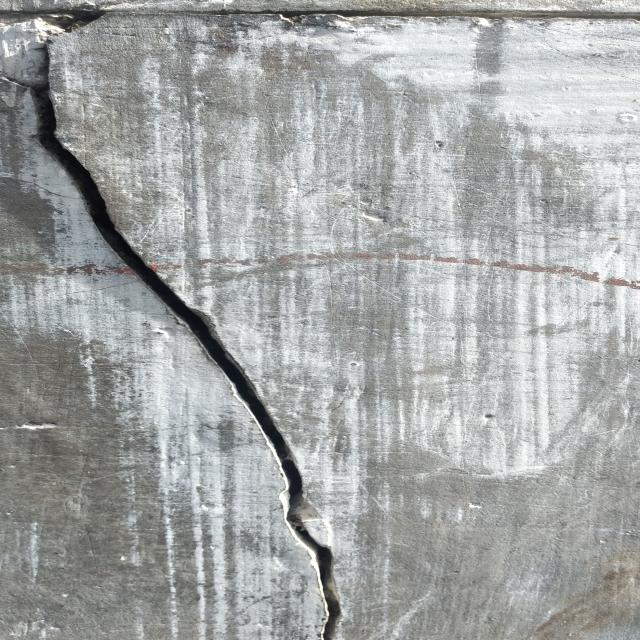Crack: (23, 20, 354, 640)
